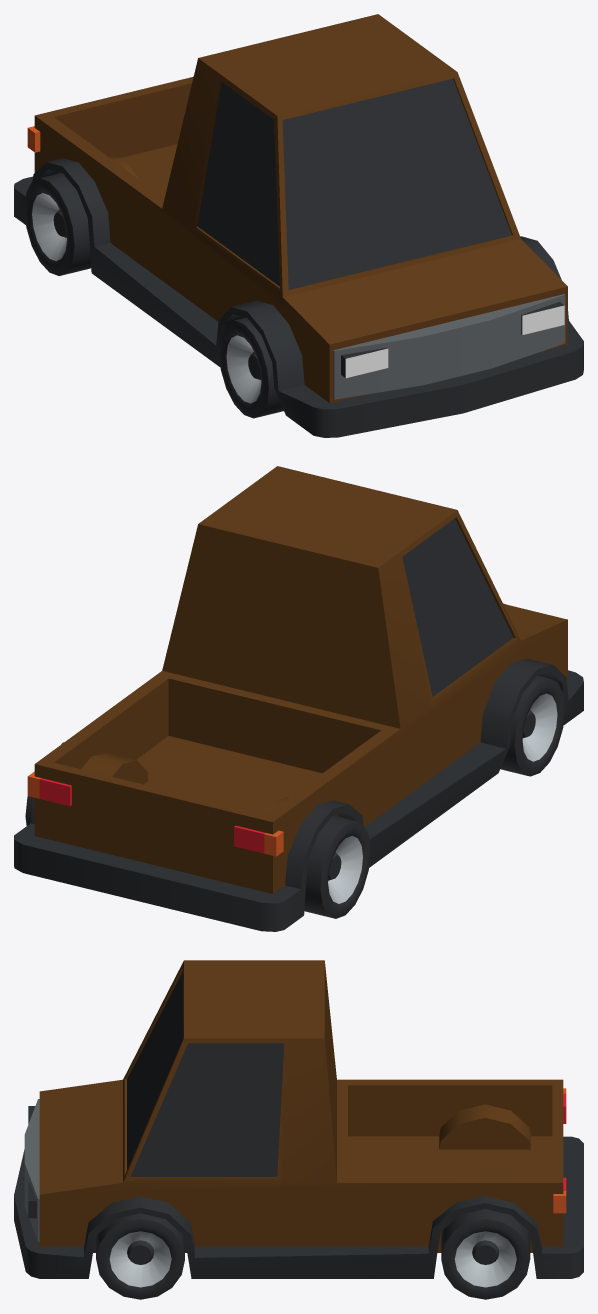
Rendered from Race Royale.fbx_Car7.fbx.
The picture shows the model from 3 angles, top to bottom: view 1: azimuth 30°, elevation 25°; view 2: azimuth 150°, elevation 25°; view 3: azimuth 270°, elevation 25°; orthographic projection. The views are drawn at different scales.
Visible parts, largest first — view 1: Car7, Car7Wheel4, Car7Wheel2; view 2: Car7, Car7Wheel4, Car7Wheel2; view 3: Car7, Car7Wheel3, Car7Wheel1.
Boxes of the visible parts, bbox=[...] form: Car7: bbox=[14, 14, 583, 437]; Car7Wheel4: bbox=[24, 173, 91, 275]; Car7Wheel2: bbox=[219, 317, 283, 418]; Car7: bbox=[14, 466, 583, 931]; Car7Wheel4: bbox=[304, 815, 370, 918]; Car7Wheel2: bbox=[500, 675, 564, 776]; Car7: bbox=[14, 960, 583, 1278]; Car7Wheel3: bbox=[441, 1209, 530, 1299]; Car7Wheel1: bbox=[96, 1213, 184, 1299].
Bounding box in the file's own units: 299 × 256 × 558.
